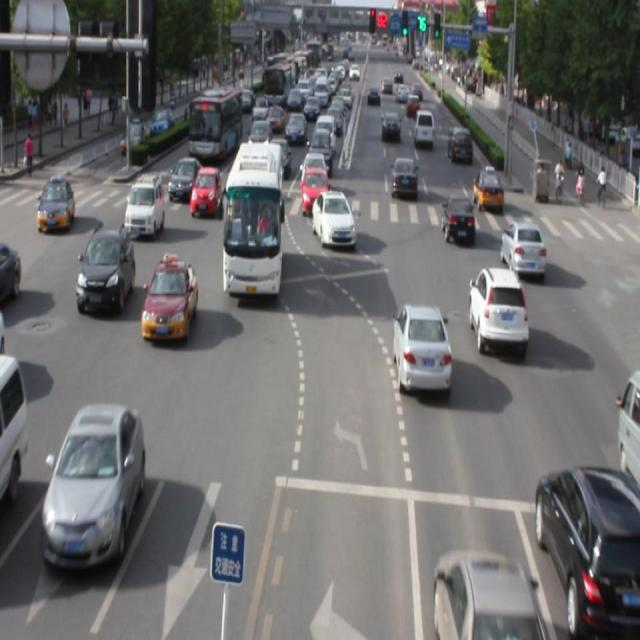car: (537, 460, 640, 640), (44, 399, 144, 568), (432, 547, 536, 640), (395, 301, 452, 397), (466, 266, 527, 350), (76, 225, 134, 311), (141, 258, 197, 338), (311, 196, 355, 253), (501, 220, 545, 277), (125, 176, 164, 240), (441, 191, 476, 248), (189, 165, 220, 215)
truck: (1, 352, 28, 500), (619, 364, 640, 486)
van: (225, 140, 282, 300)
